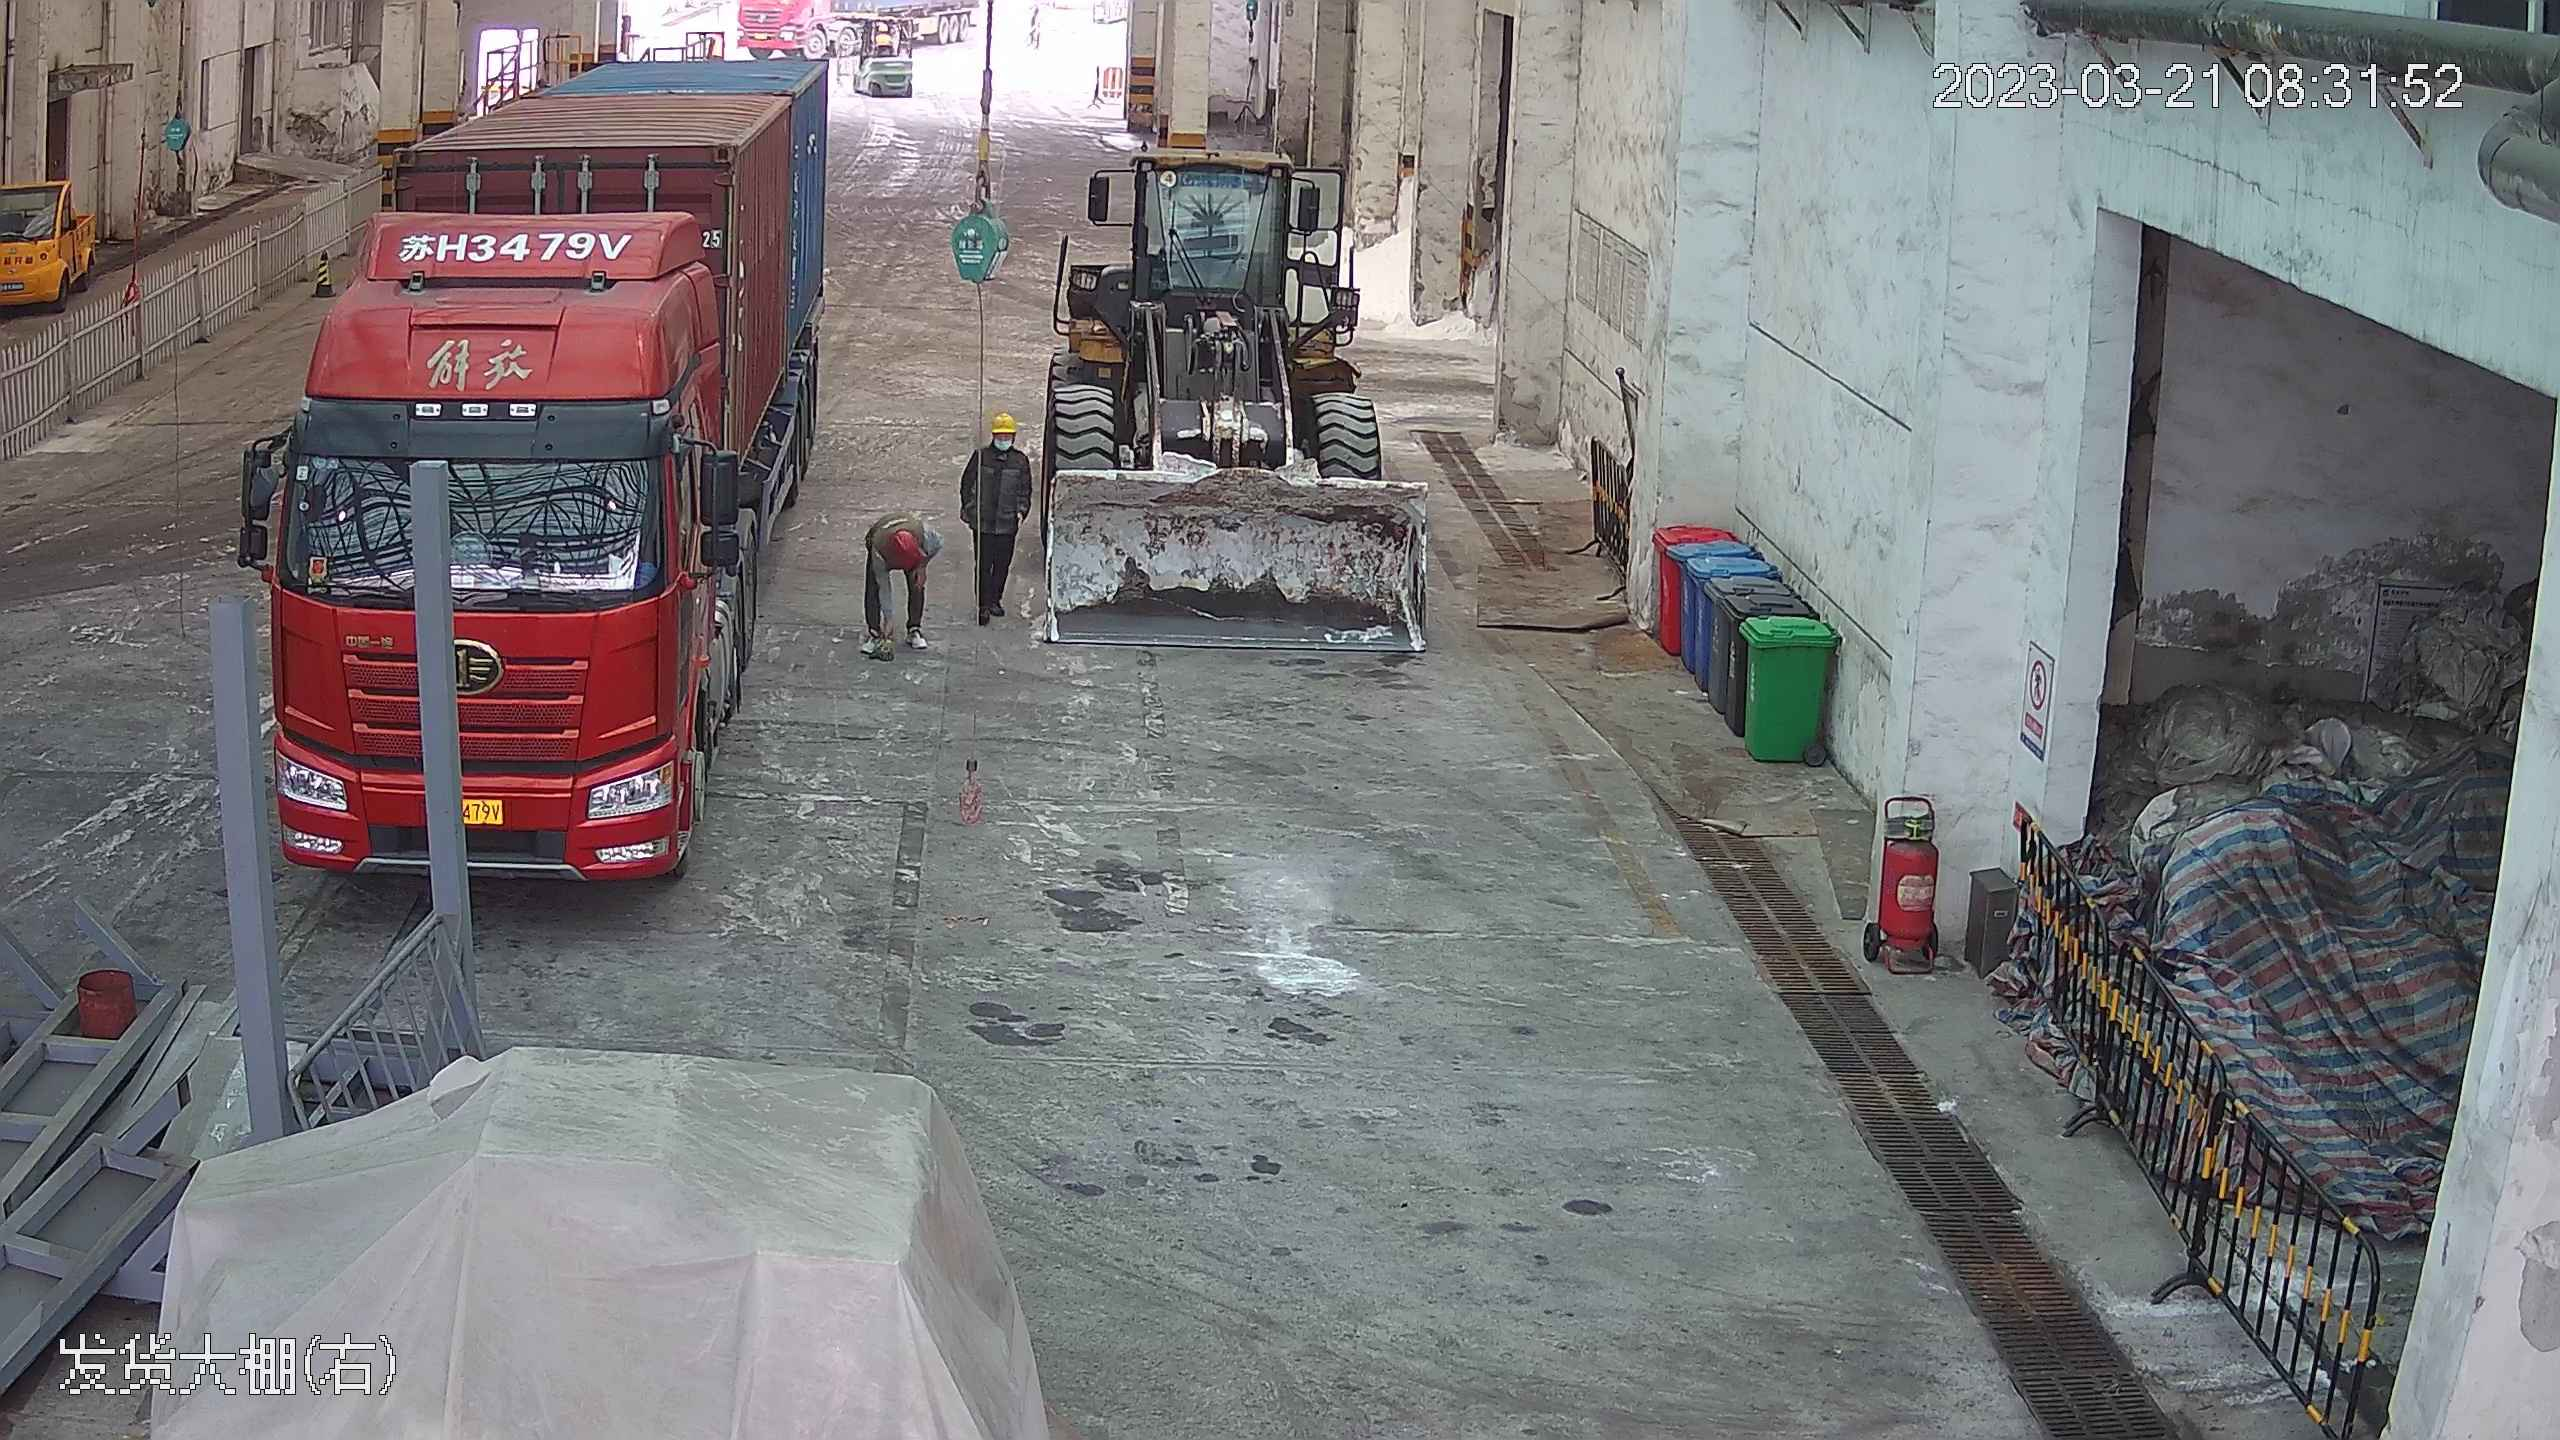head: (965, 410, 1034, 477), (871, 514, 935, 578)
helmet: (890, 530, 921, 569), (986, 410, 1020, 435)
people: (959, 408, 1040, 625), (861, 512, 931, 648)
truck: (222, 22, 832, 888)
